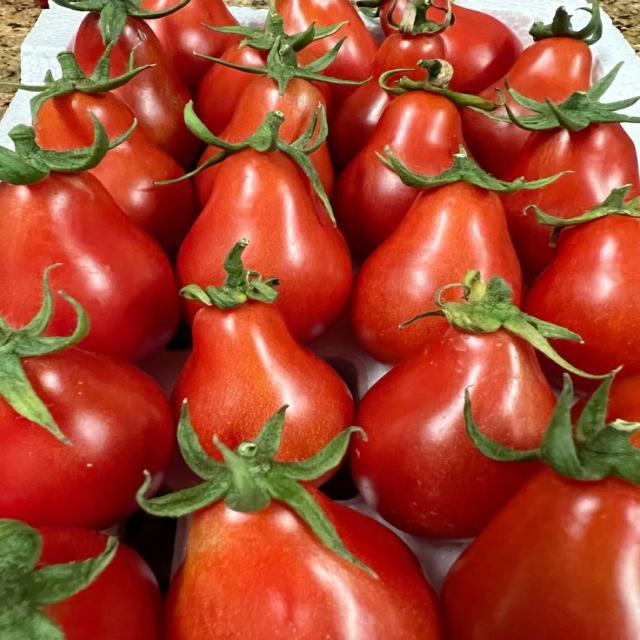tomato: (139, 408, 441, 639), (351, 272, 589, 538), (443, 376, 639, 639), (350, 319, 554, 538), (167, 492, 441, 639), (0, 165, 178, 360), (177, 149, 352, 342), (443, 470, 639, 639), (0, 350, 173, 529), (351, 182, 521, 363), (173, 290, 353, 460), (503, 66, 639, 275), (333, 92, 463, 256), (502, 124, 639, 275), (0, 520, 164, 639), (527, 215, 639, 375), (330, 32, 446, 167), (110, 17, 200, 168), (478, 4, 599, 115), (91, 127, 193, 255), (44, 543, 164, 639), (149, 0, 239, 91), (275, 0, 377, 80), (443, 4, 522, 93), (220, 76, 326, 142), (220, 10, 317, 67), (506, 38, 592, 101), (196, 64, 256, 137), (195, 64, 255, 135), (607, 370, 639, 422)
